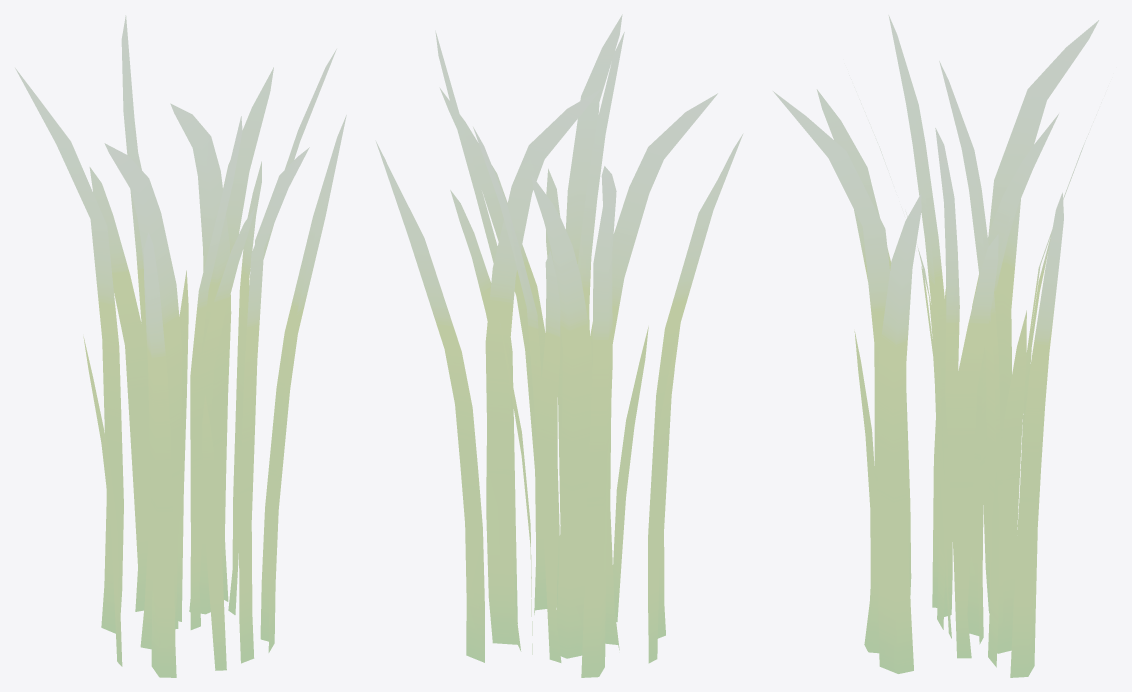
Rendered from SnowGrass_Common_Tall.obj.
3 renders of one model, left to right at view 1: azimuth 30°, elevation 25°; view 2: azimuth 150°, elevation 25°; view 3: azimuth 270°, elevation 25°, orthographic. The views are drawn at different scales.
Parts seen in each view (by area): view 1: SnowGrass_Common_Tall; view 2: SnowGrass_Common_Tall; view 3: SnowGrass_Common_Tall.
Boxes of the visible parts, left/top/right/bottom form: SnowGrass_Common_Tall: left=15, top=15, right=346, bottom=677; SnowGrass_Common_Tall: left=375, top=14, right=743, bottom=677; SnowGrass_Common_Tall: left=773, top=15, right=1101, bottom=677.
Size of the model in its own units: 0.8951 by 1.87 by 0.9931.
Materials: 1 (1 with a texture image).
